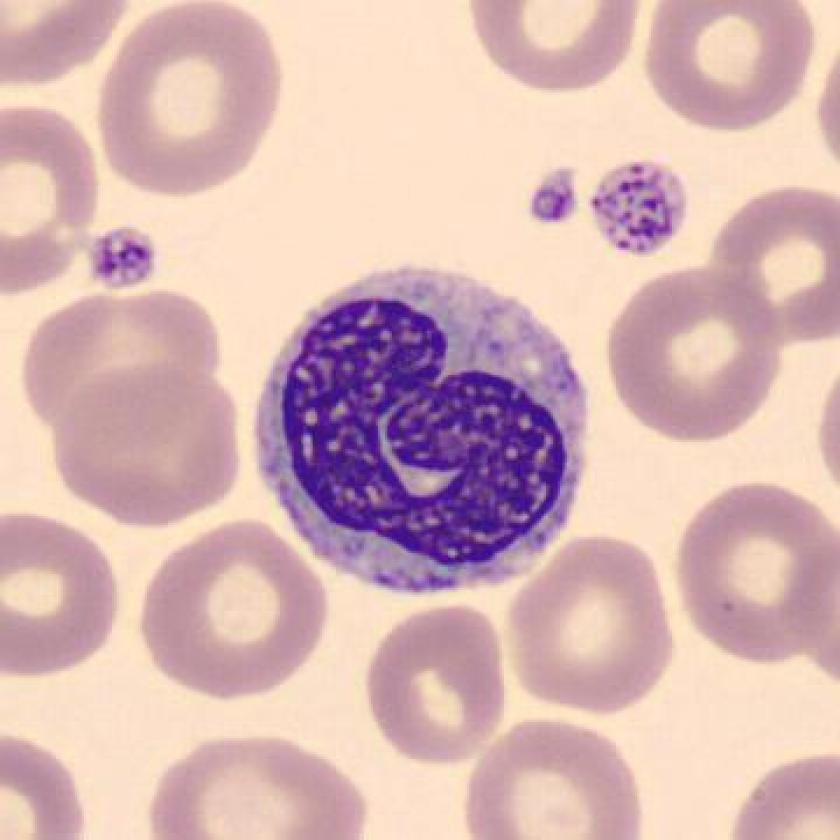monocyte: (239, 246, 612, 621)
